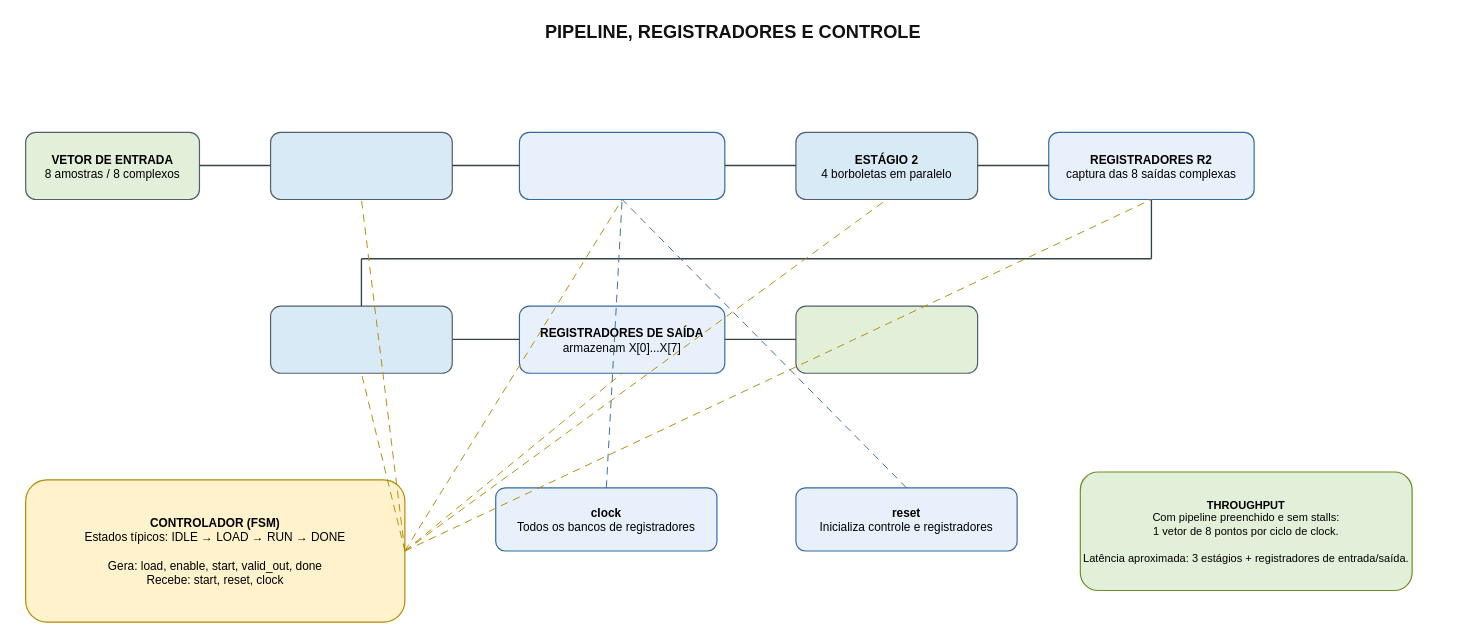
The diagram is 1465 pixels wide and 636 high, and some of its shapes have lost their labels. The shapes that lost their labels are listed below. From the top down, each one's box as (x1, y1, x2, y2) in pixels, then its label:
(270, 131, 453, 200): ESTÁGIO 1 4 borboletas em paralelo
(518, 131, 725, 200): REGISTRADORES R1 captura das 8 saídas complexas
(270, 305, 453, 374): ESTÁGIO 3 4 borboletas em paralelo
(795, 305, 978, 374): SAÍDA / VALID vetor transformado
